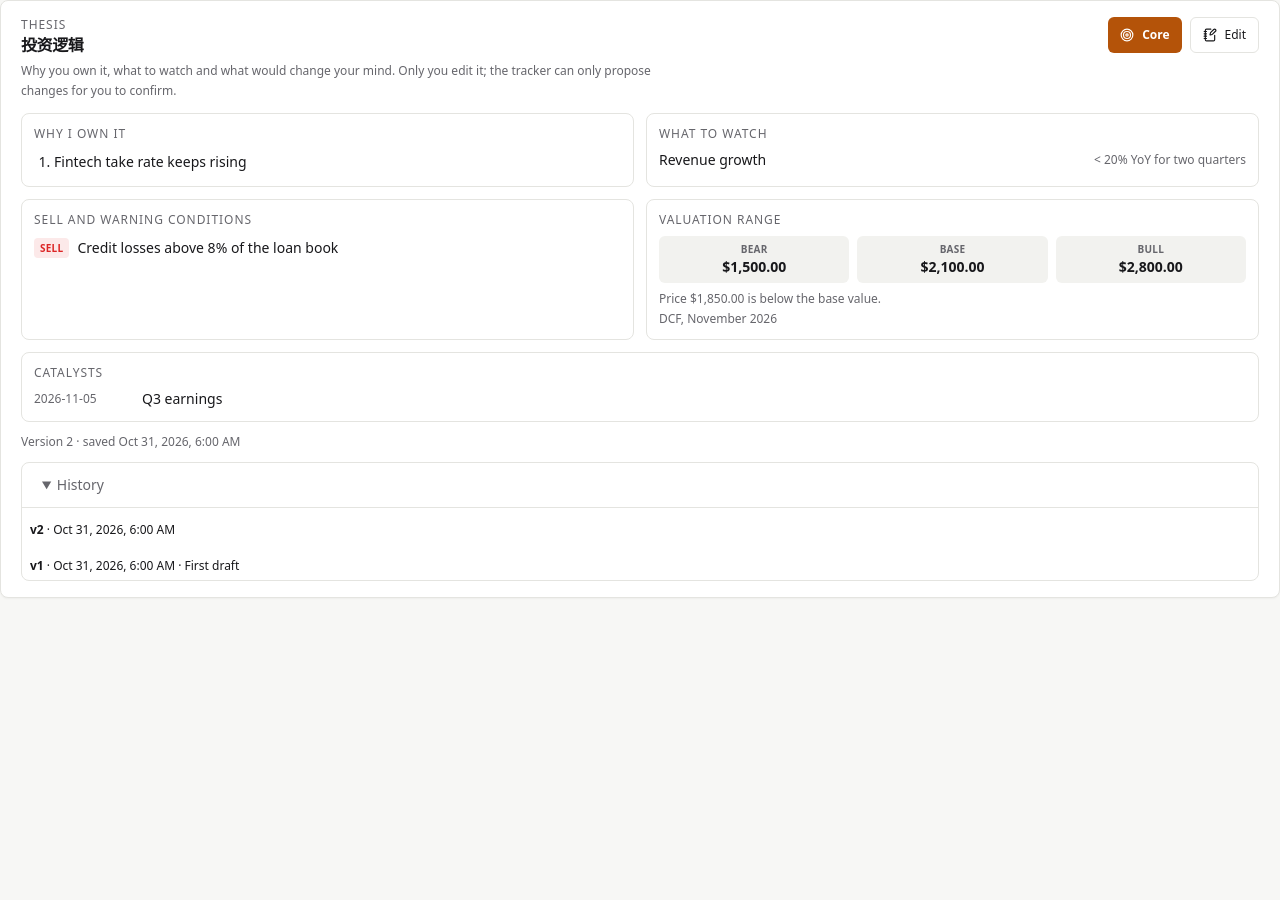
it: ThesisPanel › lists earlier versions and opens one
Click the button "v1 · Oct 31, 2026, 6:00 AM · First draft". click: (114, 566)
box: [22,552,1258,580]
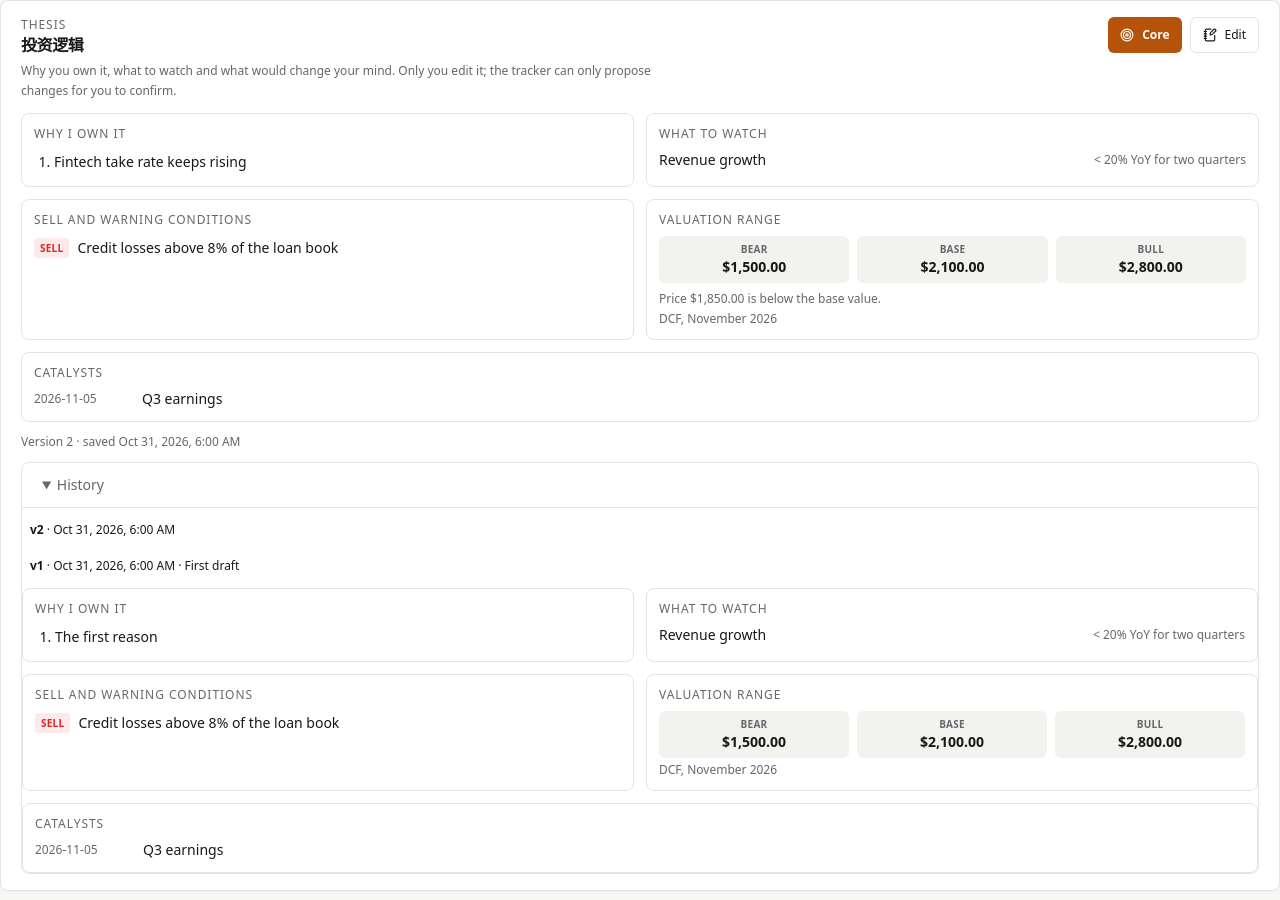
Expected: the list item "The first reason" is shown, [55,627,158,646]
